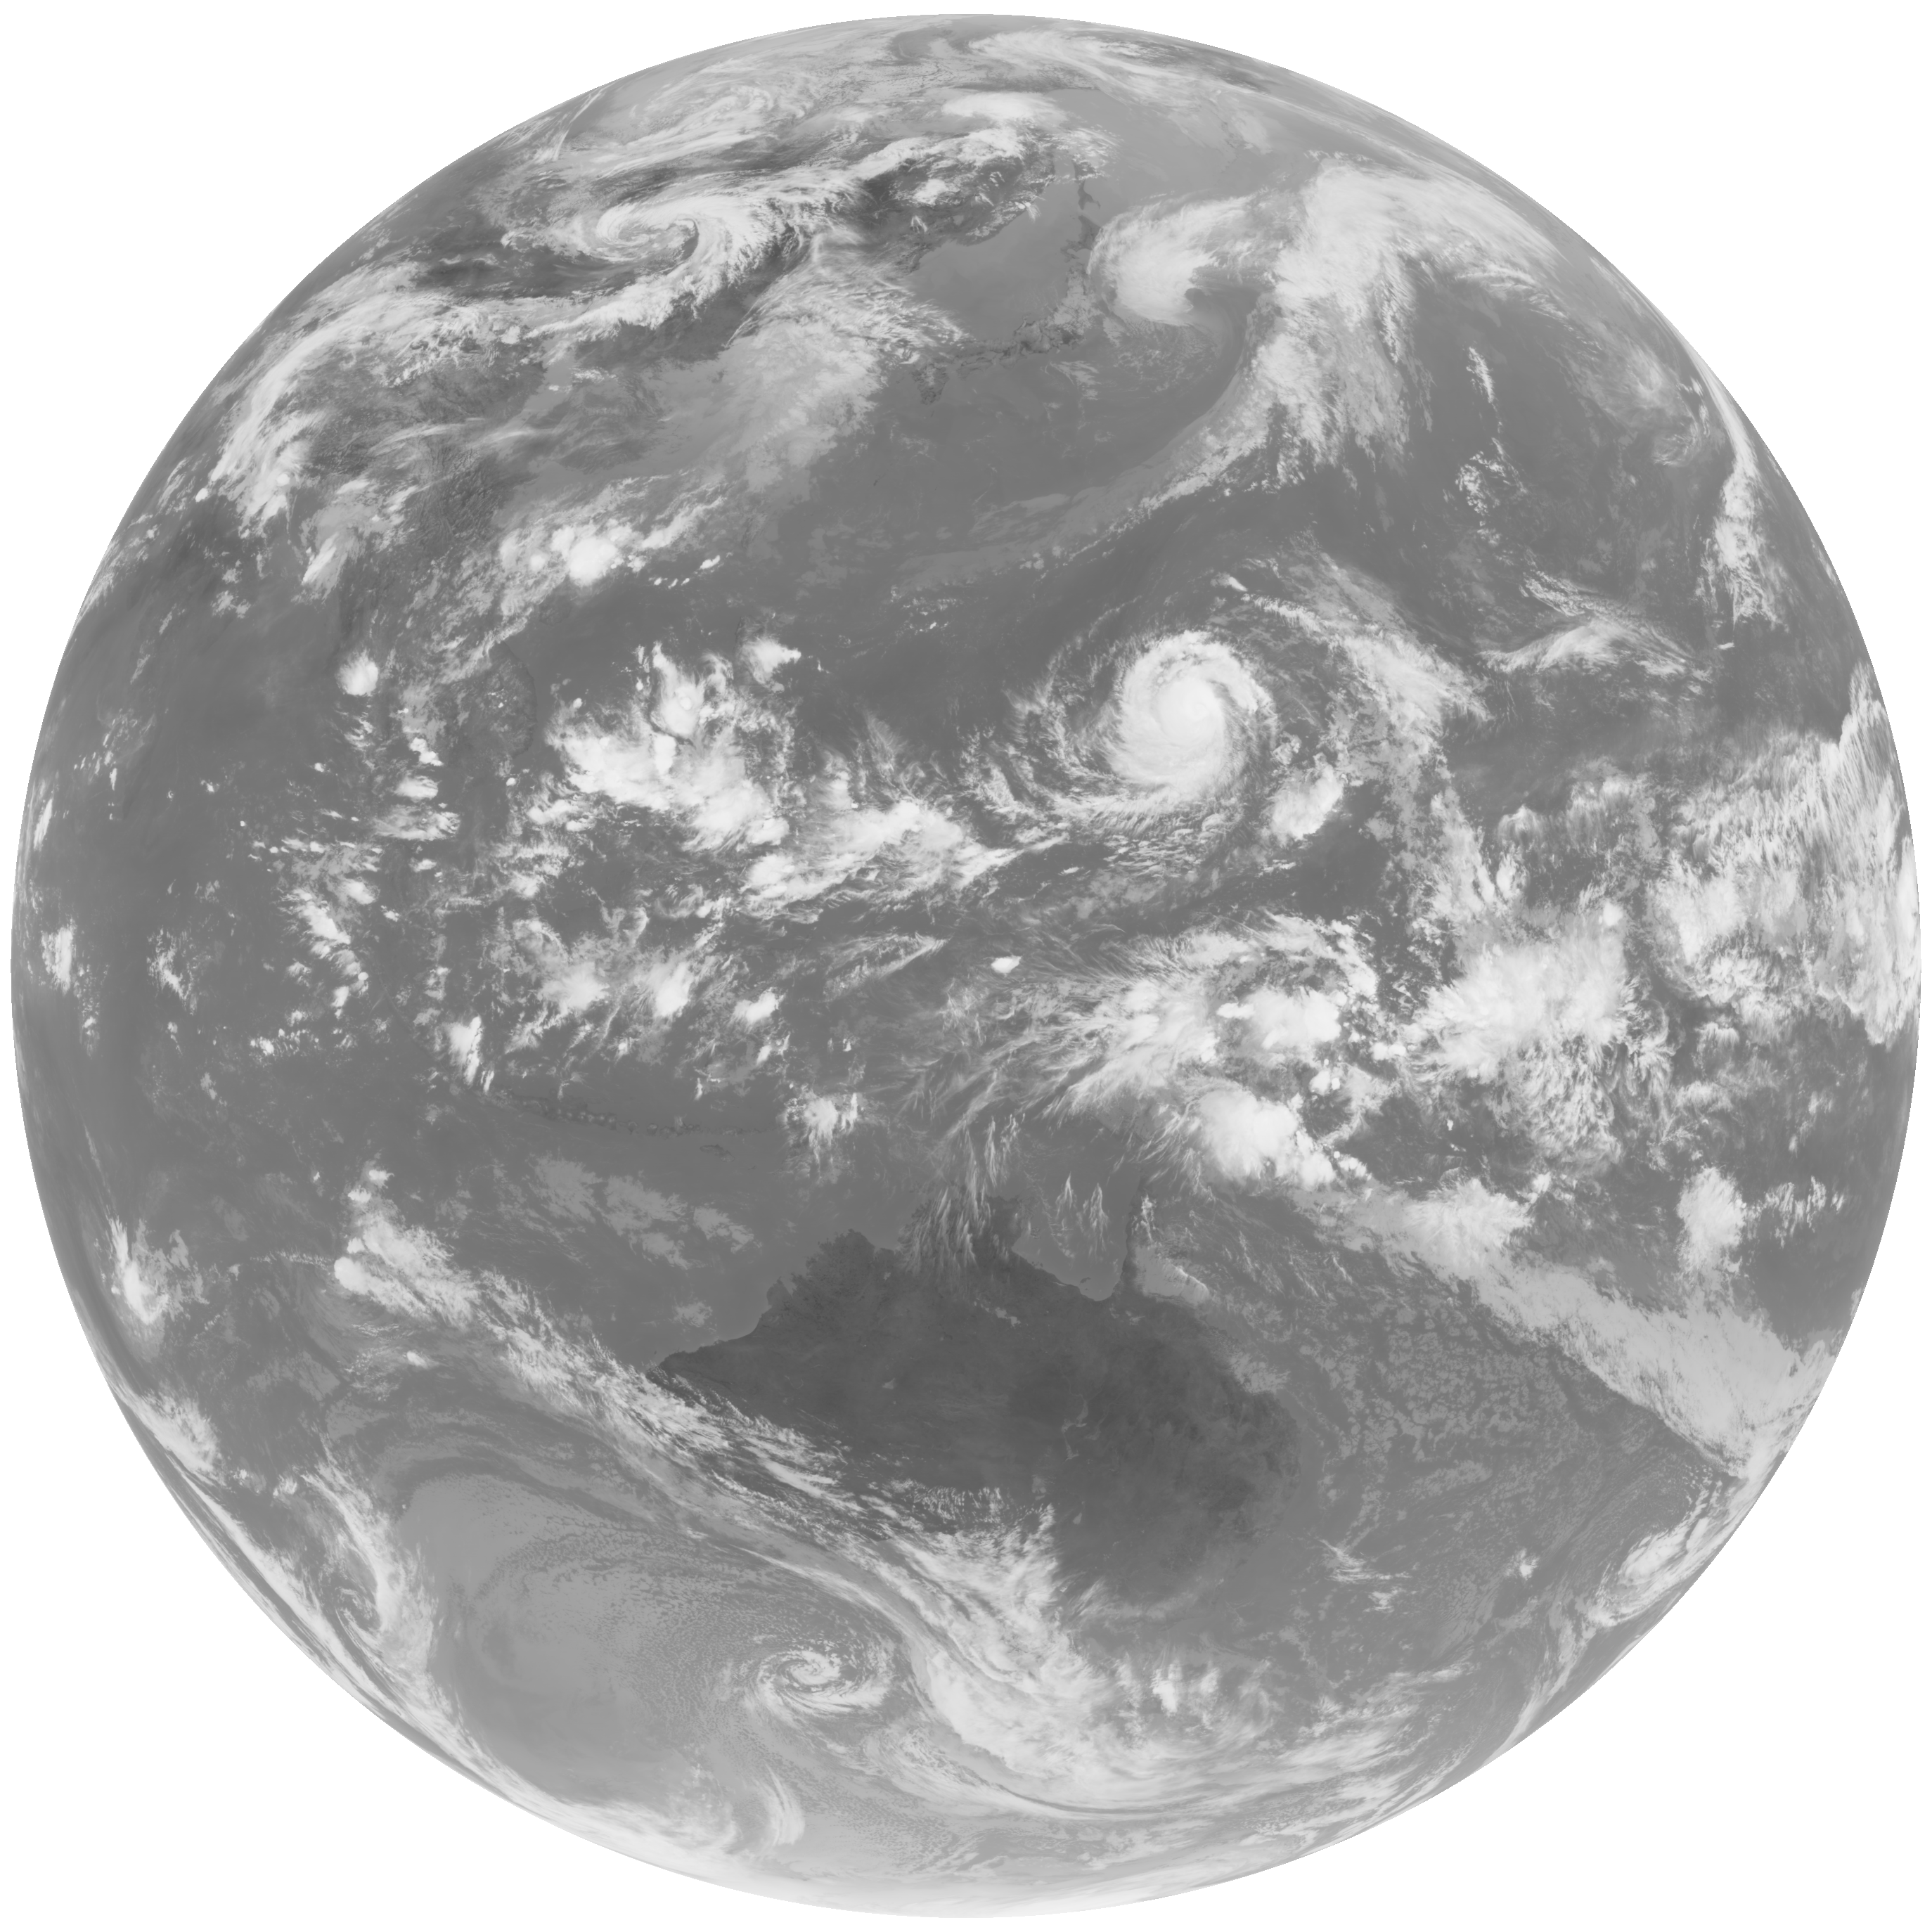typhoon: (964, 556, 1431, 902)
